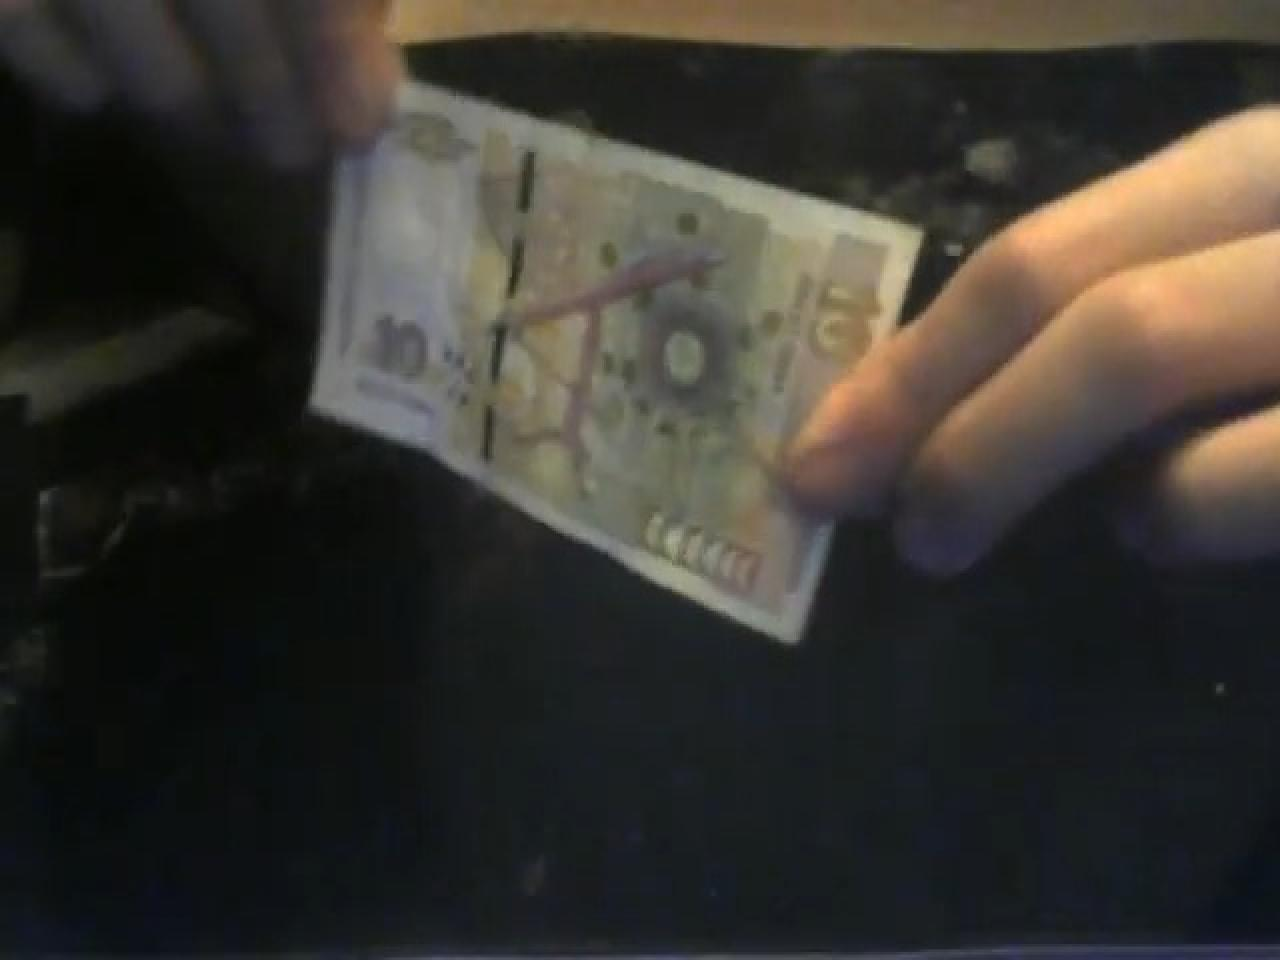10leva: (322, 88, 922, 645)
